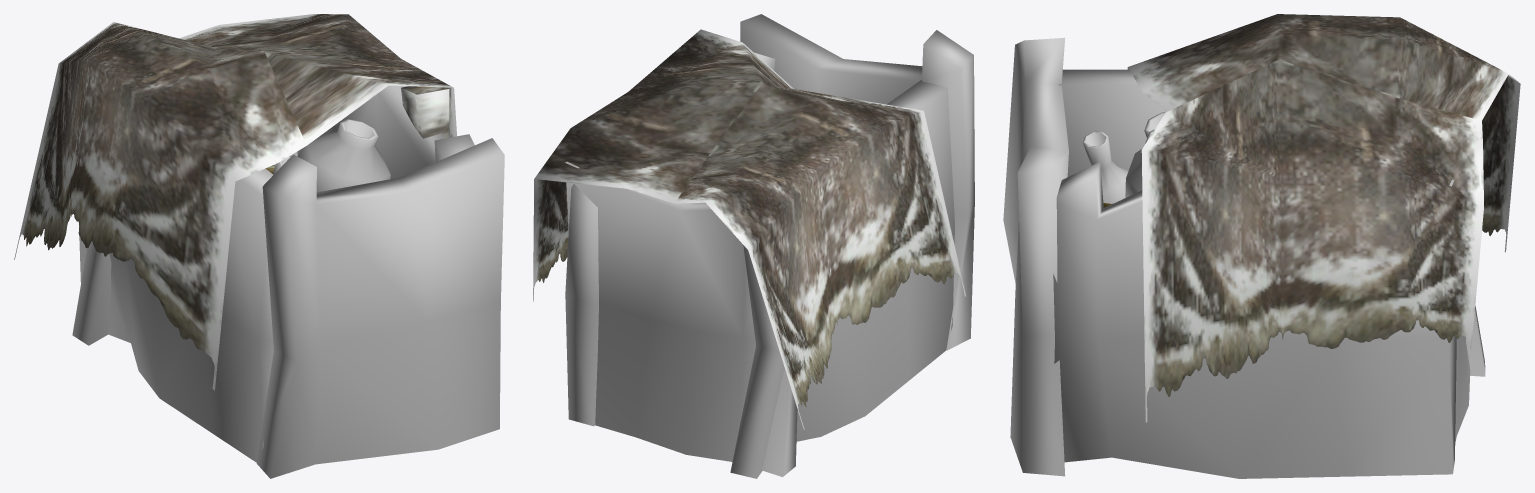
The model's file is S_Build_Snowland059.FBX.
3 renders of one model, left to right at view 1: azimuth 30°, elevation 25°; view 2: azimuth 150°, elevation 25°; view 3: azimuth 270°, elevation 25°, orthographic. The views are drawn at different scales.
Parts seen in each view (by area): view 1: S_Build_Snowland059; view 2: S_Build_Snowland059; view 3: S_Build_Snowland059.
Part boxes in pixels (x1,y1,x2,y2): S_Build_Snowland059: (14, 14, 504, 478); S_Build_Snowland059: (533, 14, 974, 478); S_Build_Snowland059: (1003, 14, 1520, 478).
Size of the model in its own units: 95.25 by 129 by 96.08.
